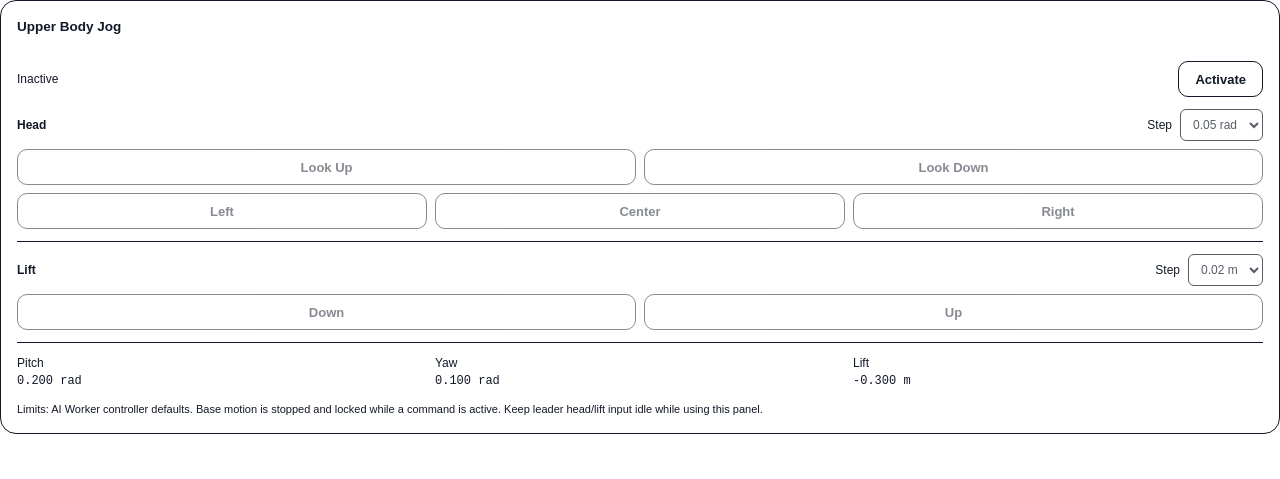
Test case: timeout sends no joint command and permits retry
Click the button "Activate" at {"x": 1221, "y": 79}, box [1178,61,1263,97]
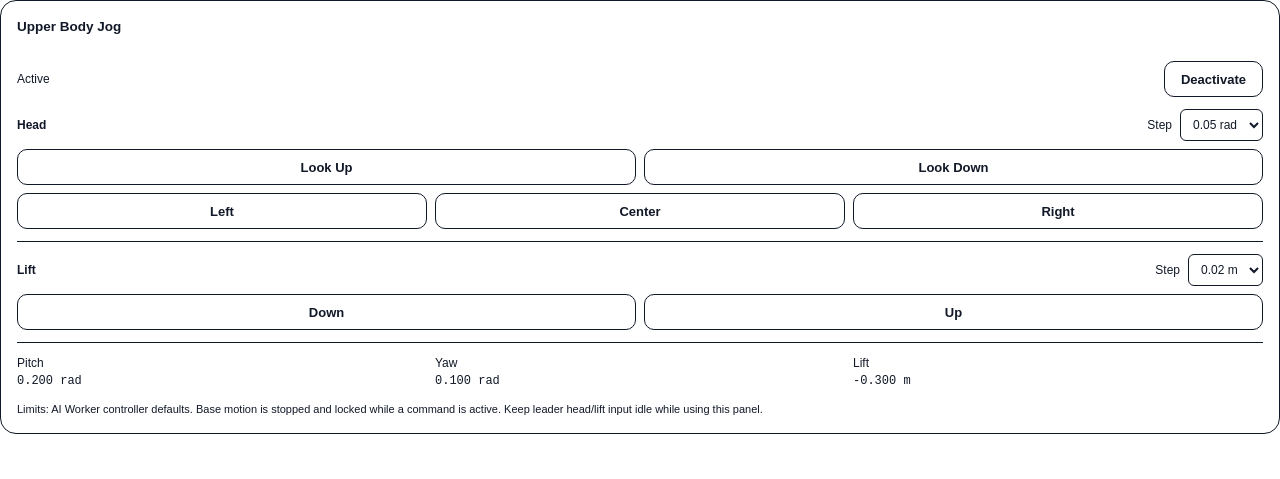
Click the button "Look Up" at {"x": 326, "y": 167}, box [17,149,636,185]
Wait 3100 ms
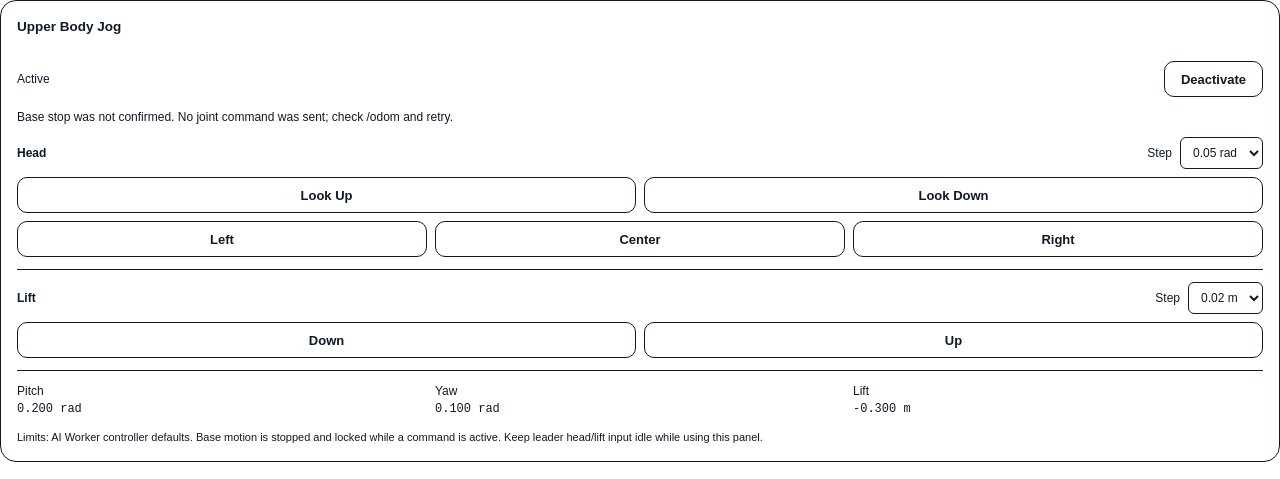
Expected: the text "Confirming base stop" is shown, [17,71,50,87]
Expected: the button "Look Up" is enabled
Expected: the message shows "Base stop was not confirmed. No joint command was sent", [17,110,453,124]
Click the button "Look Up" at {"x": 326, "y": 195}, box [17,177,636,213]
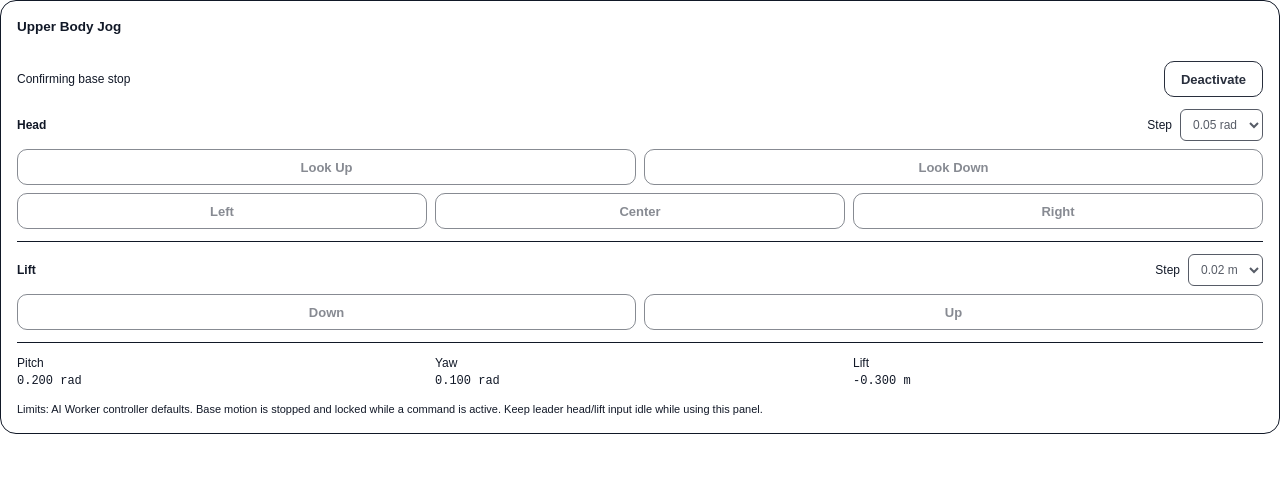
Expected: the message "Base stop was not confirmed. No joint command was sent; check /odom and retry." is gone
